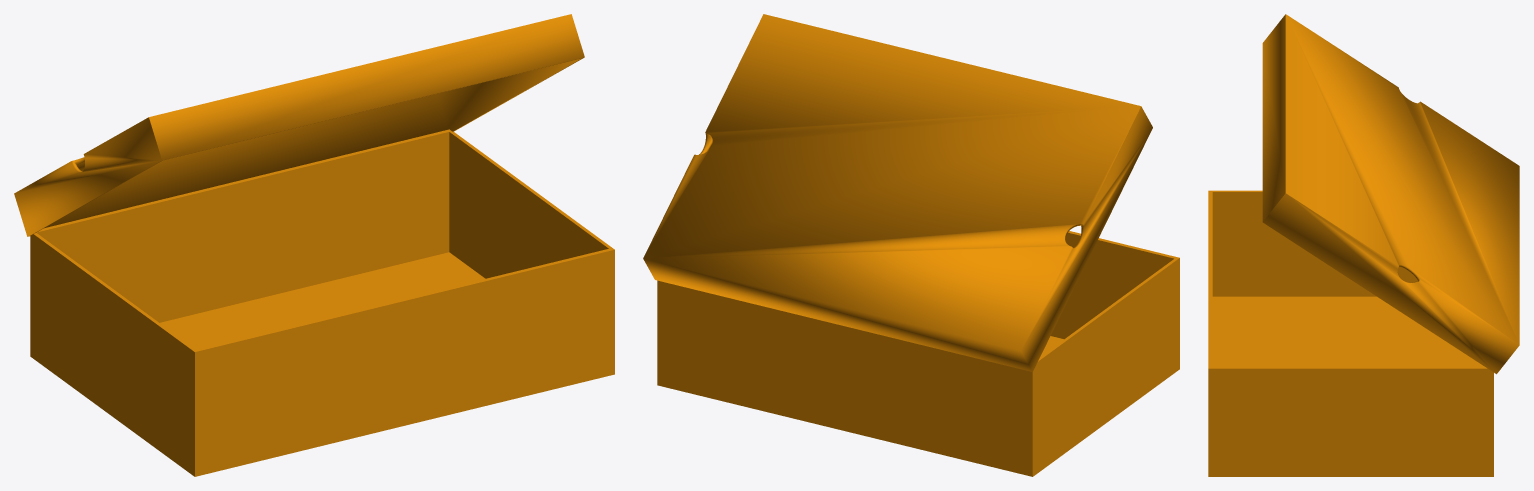
The model's file is box_shoebox.fbx.
The picture shows the model from 3 angles, left to right: view 1: azimuth 30°, elevation 25°; view 2: azimuth 150°, elevation 25°; view 3: azimuth 270°, elevation 25°; orthographic projection. The views are drawn at different scales.
Parts seen in each view (by area): view 1: shoebox, shoebox_interior, shoebox_cap; view 2: shoebox_cap, shoebox, shoebox_interior; view 3: shoebox_cap, shoebox, shoebox_interior.
Part boxes in pixels (x1,y1,x2,y2): shoebox: [30, 129, 614, 476]; shoebox_interior: [36, 132, 608, 349]; shoebox_cap: [14, 14, 584, 236]; shoebox_cap: [643, 14, 1152, 371]; shoebox: [657, 231, 1179, 476]; shoebox_interior: [1040, 232, 1173, 356]; shoebox_cap: [1262, 14, 1519, 374]; shoebox: [1208, 190, 1493, 476]; shoebox_interior: [1212, 192, 1484, 366].
Bounding box in the file's own units: 1.32 × 0.9738 × 0.967.
